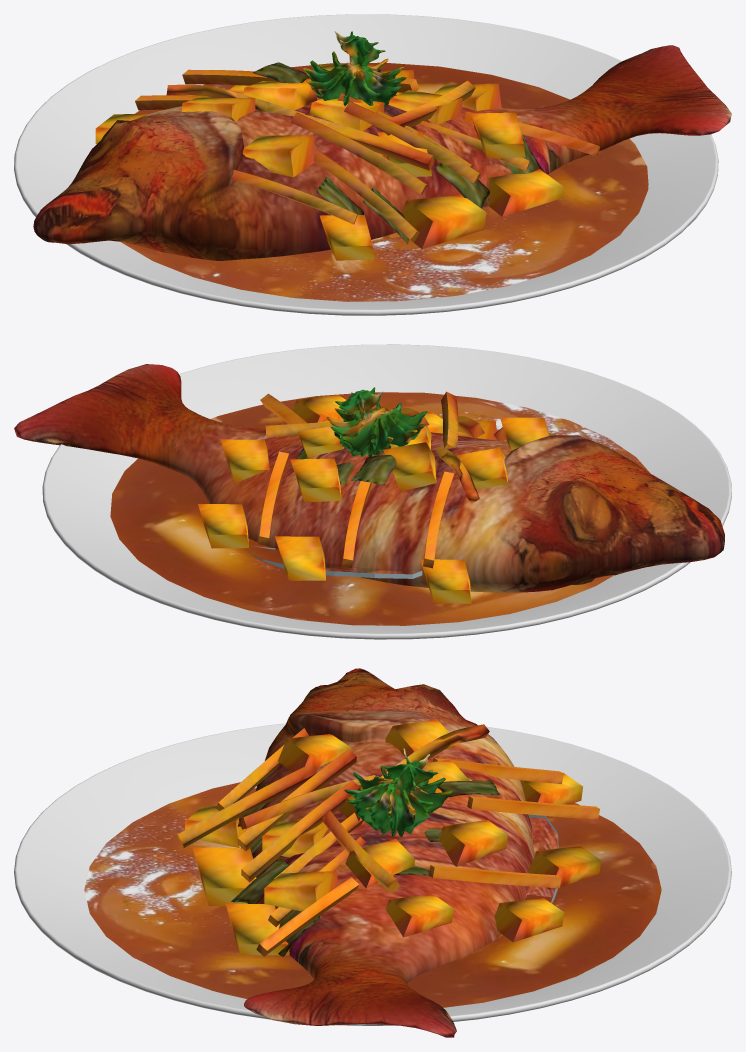
File: Fish Soup.glb
3 views of the same model, one above another, from view 1: azimuth 30°, elevation 25°; view 2: azimuth 150°, elevation 25°; view 3: azimuth 270°, elevation 25° (orthographic). The views are drawn at different scales.
Visible parts, largest first — view 1: Fish Soup; view 2: Fish Soup; view 3: Fish Soup.
Boxes of the visible parts, bbox=[...] form: Fish Soup: bbox=[14, 14, 731, 315]; Fish Soup: bbox=[14, 344, 731, 639]; Fish Soup: bbox=[14, 668, 731, 1037].
Bounding box in the file's own units: 0.2575 × 0.0647 × 0.231.
4 materials, 3 textured.
